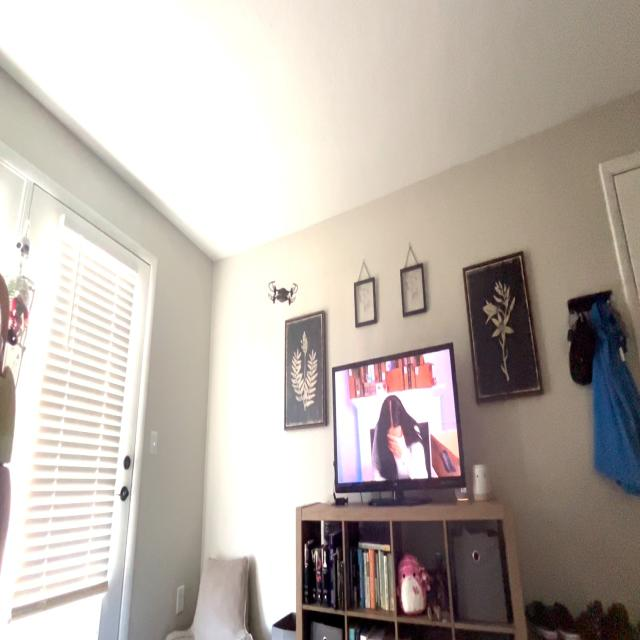drone: (264, 267, 302, 318)
